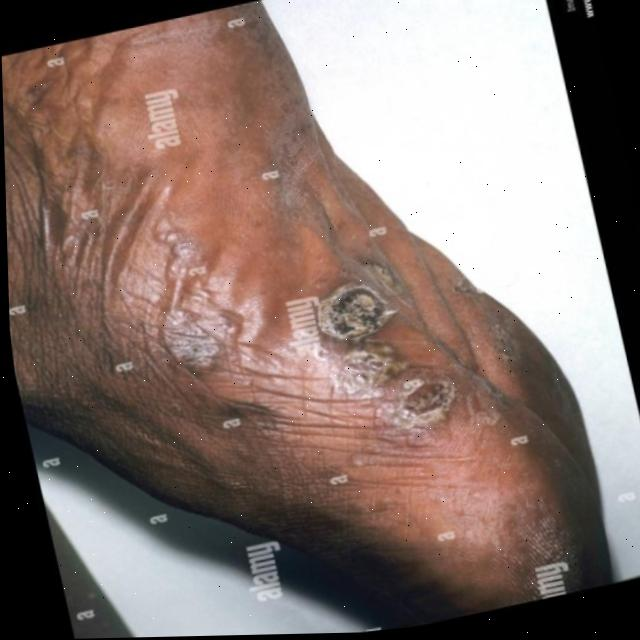Eczema: (66, 103, 444, 473)
